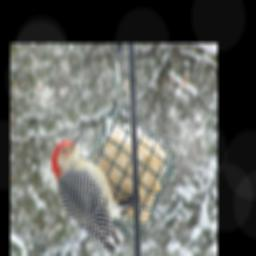Woodpecker: (51, 132, 137, 252)
